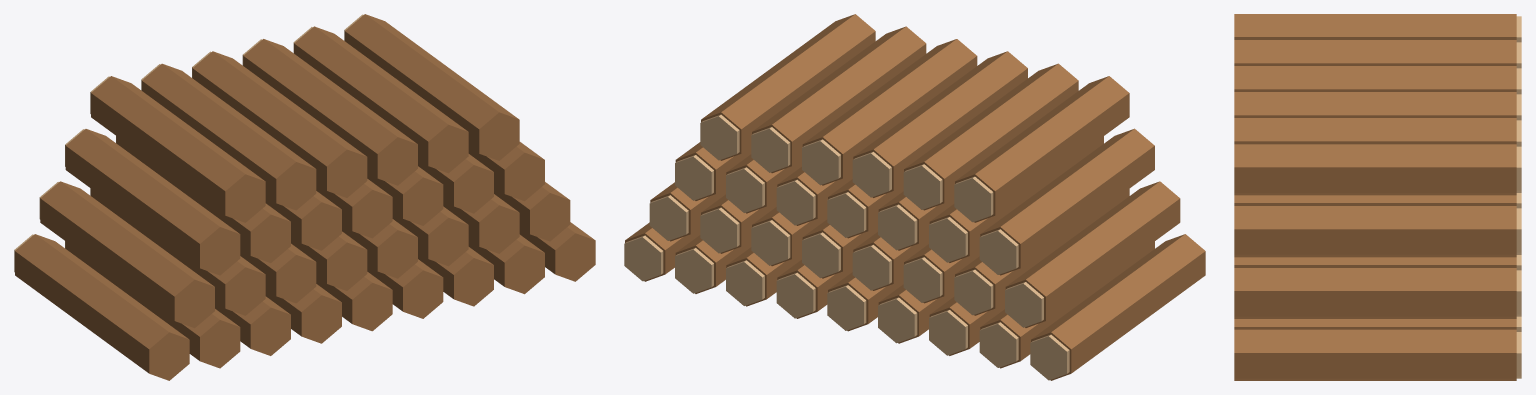
Rendered from vedtrave.glb.
The picture shows the model from 3 angles, left to right: view 1: azimuth 30°, elevation 25°; view 2: azimuth 150°, elevation 25°; view 3: azimuth 270°, elevation 25°; orthographic projection. The views are drawn at different scales.
Parts seen in each view (by area): view 1: vedtrave; view 2: vedtrave; view 3: vedtrave.
Boxes of the visible parts, <box> form: vedtrave: <box>14,14,595,380</box>; vedtrave: <box>624,14,1205,380</box>; vedtrave: <box>1234,14,1521,380</box>.
Size of the model in its own units: 2.11 by 0.85 by 1.12.
